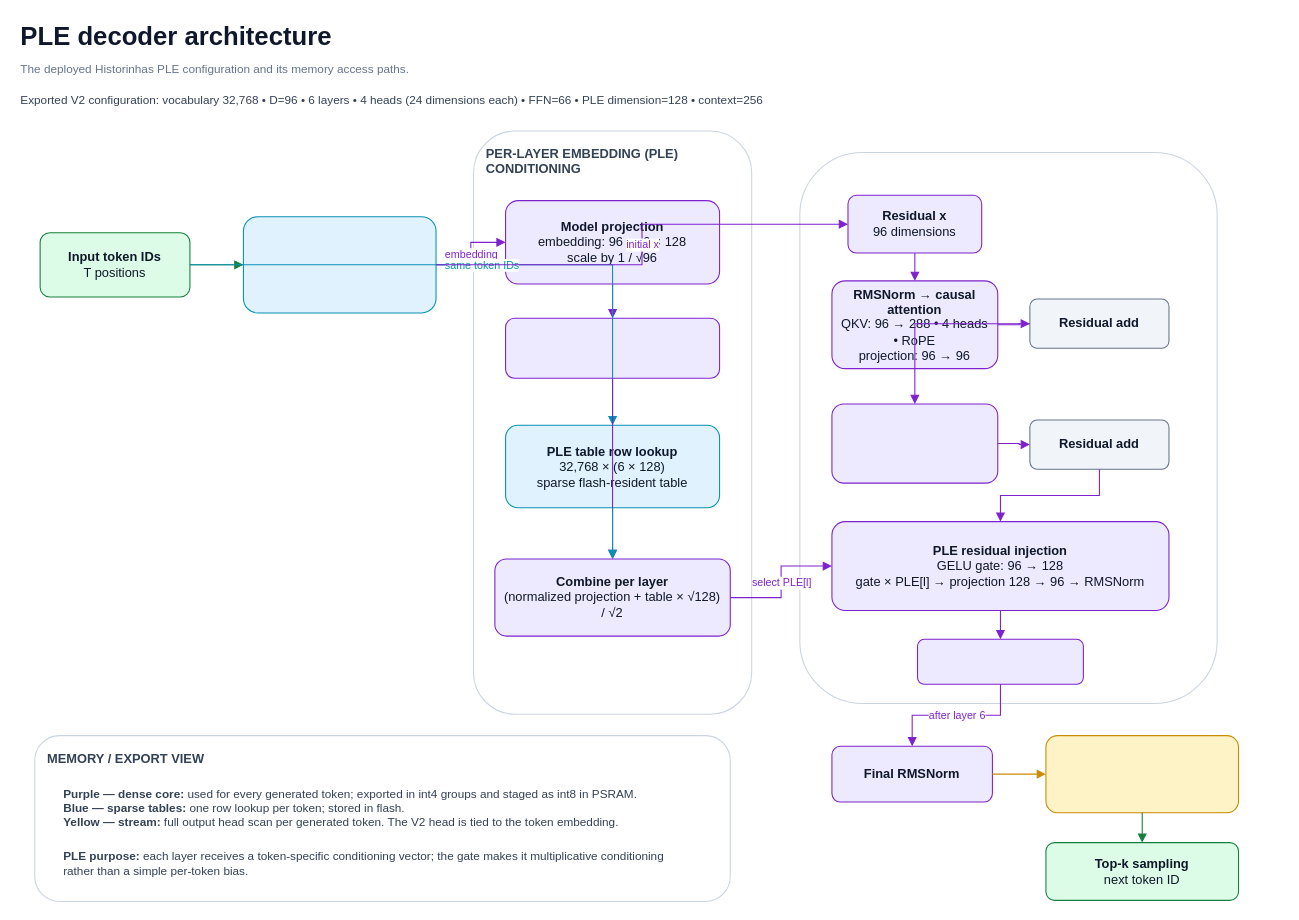
Image size: 1299x920. Some labels were removed from this diagram. Here are the shapes that lost their labels. From the top down, the box of each, then its label:
(242, 216, 436, 313): Tied token embedding 32,768 × 96 sparse row lookup
(505, 317, 720, 378): Per-slice RMSNorm 6 slices × 128
(831, 403, 998, 483): RMSNorm → SwiGLU gate/up: 96 → 66 down: 66 → 96
(799, 151, 1217, 704): DECODER CORE — REPEATED 6 TIMES
(916, 638, 1083, 684): x for next layer
(1045, 735, 1239, 813): Tied language-model head embeddingᵀ → 32,768 logits dense streaming scan
